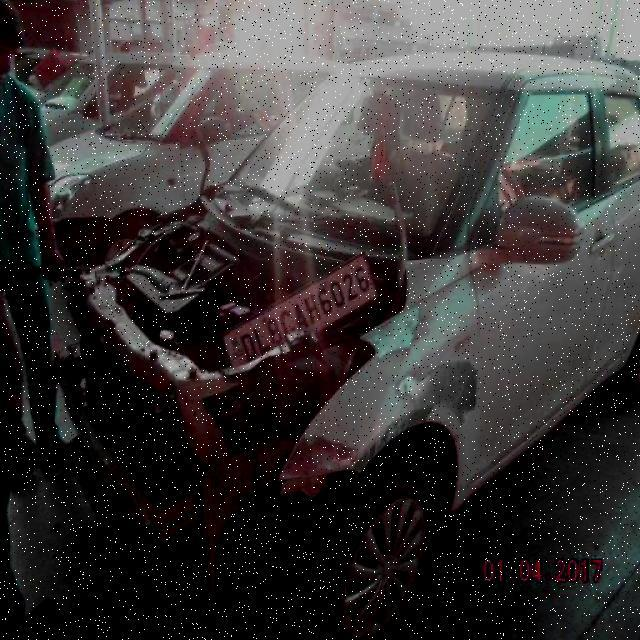car damage: (38, 201, 485, 640)
